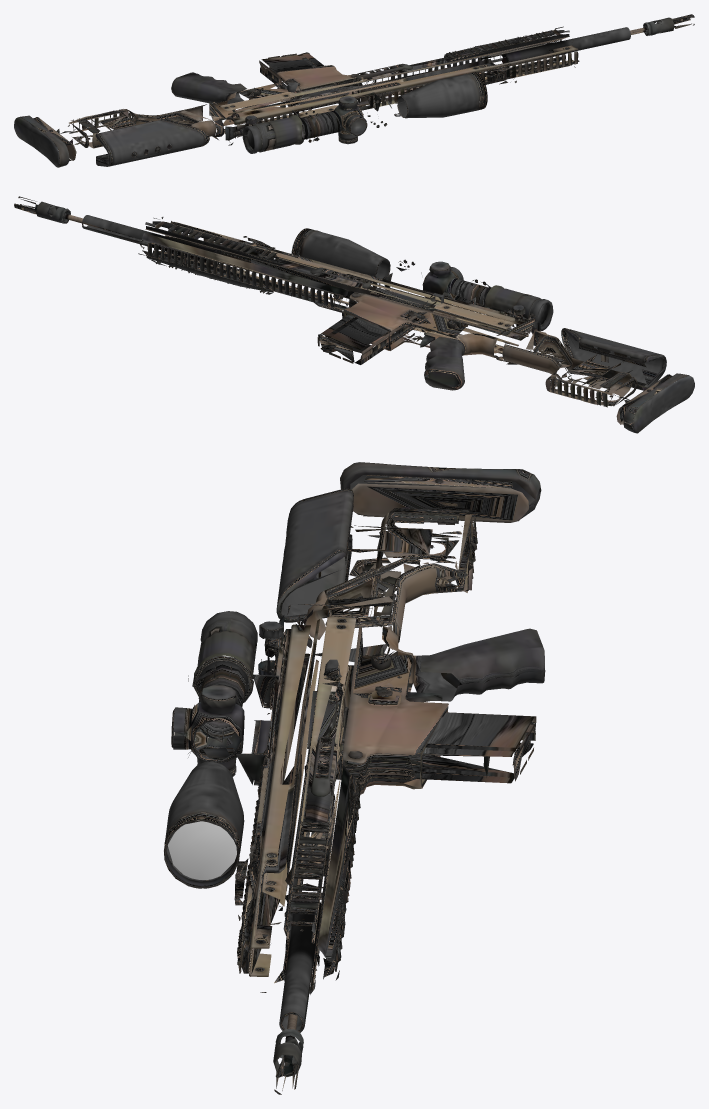
3 views of the same model, one above another, from view 1: azimuth 30°, elevation 25°; view 2: azimuth 150°, elevation 25°; view 3: azimuth 270°, elevation 25° (orthographic). The views are drawn at different scales.
Parts seen in each view (by area): view 1: w_sg550; view 2: w_sg550; view 3: w_sg550.
Boxes of the visible parts, x1,y1,x2,y2 form: w_sg550: (14,14,694,167); w_sg550: (14,196,694,433); w_sg550: (164,462,545,1094).
Size of the model in its own units: 1.47 by 0.1028 by 0.3905.
2 materials, 2 textured.
